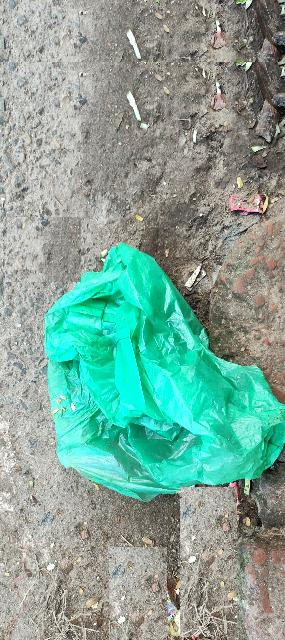polythene: (34, 264, 285, 509)
